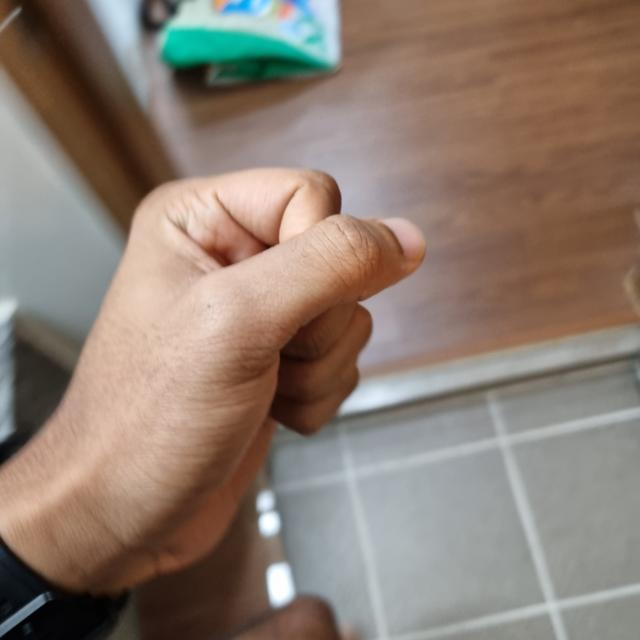Rock: (12, 163, 426, 582)
